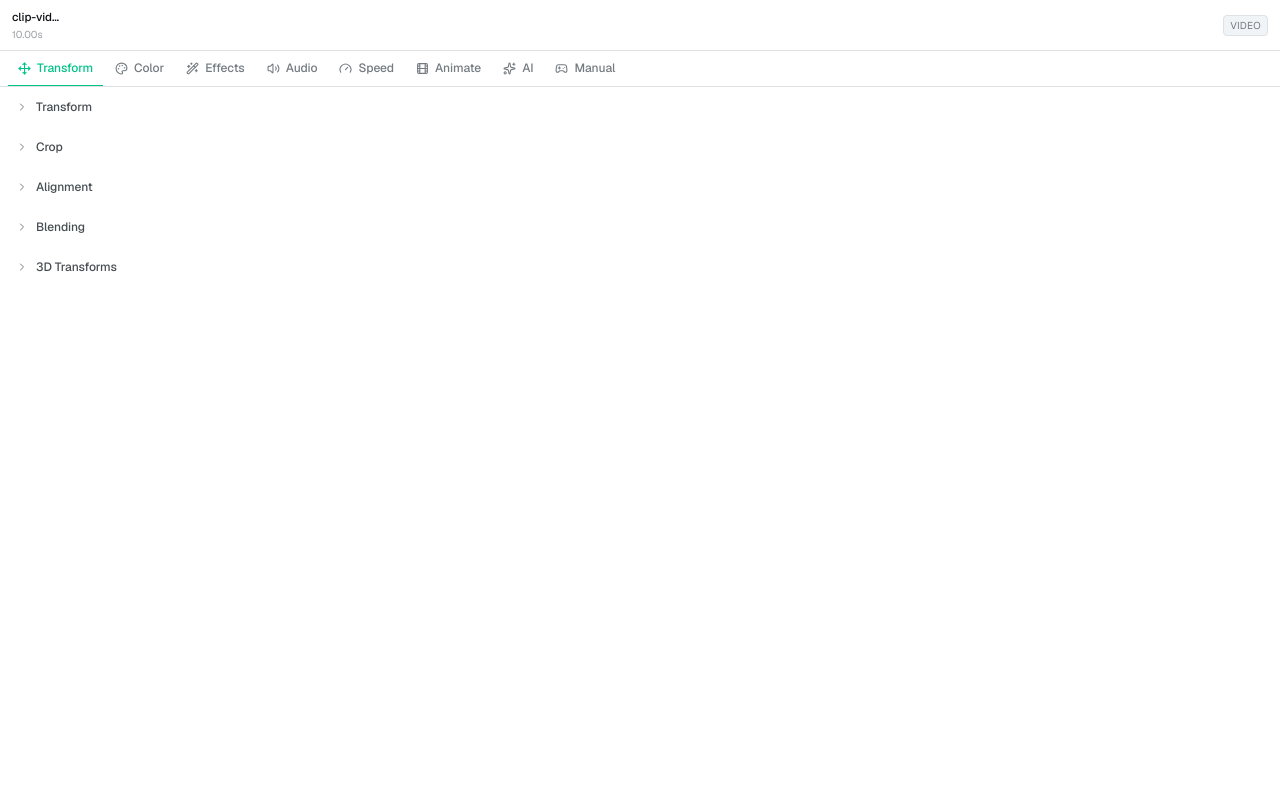
Scenario: InspectorPanel real tabs › switching tabs swaps the visible panel (real isolation)
This screenshot has width=1280, height=800.
Click the button "Transform": {"x": 64, "y": 107} x1=16 y1=99 x2=1264 y2=115
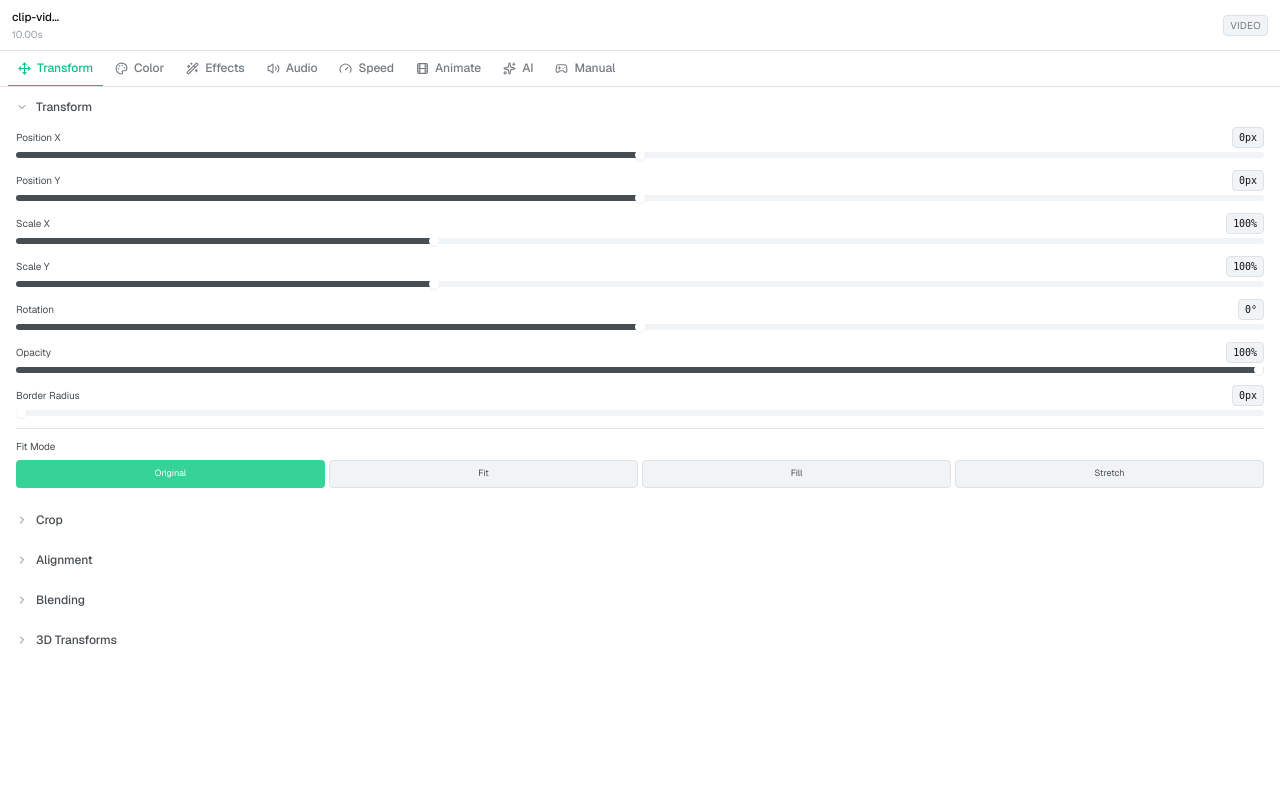
Expected: the text "Position X" is shown, x1=16 y1=131 x2=60 y2=144
Click the tab "Audio": {"x": 292, "y": 69} x1=257 y1=51 x2=328 y2=87
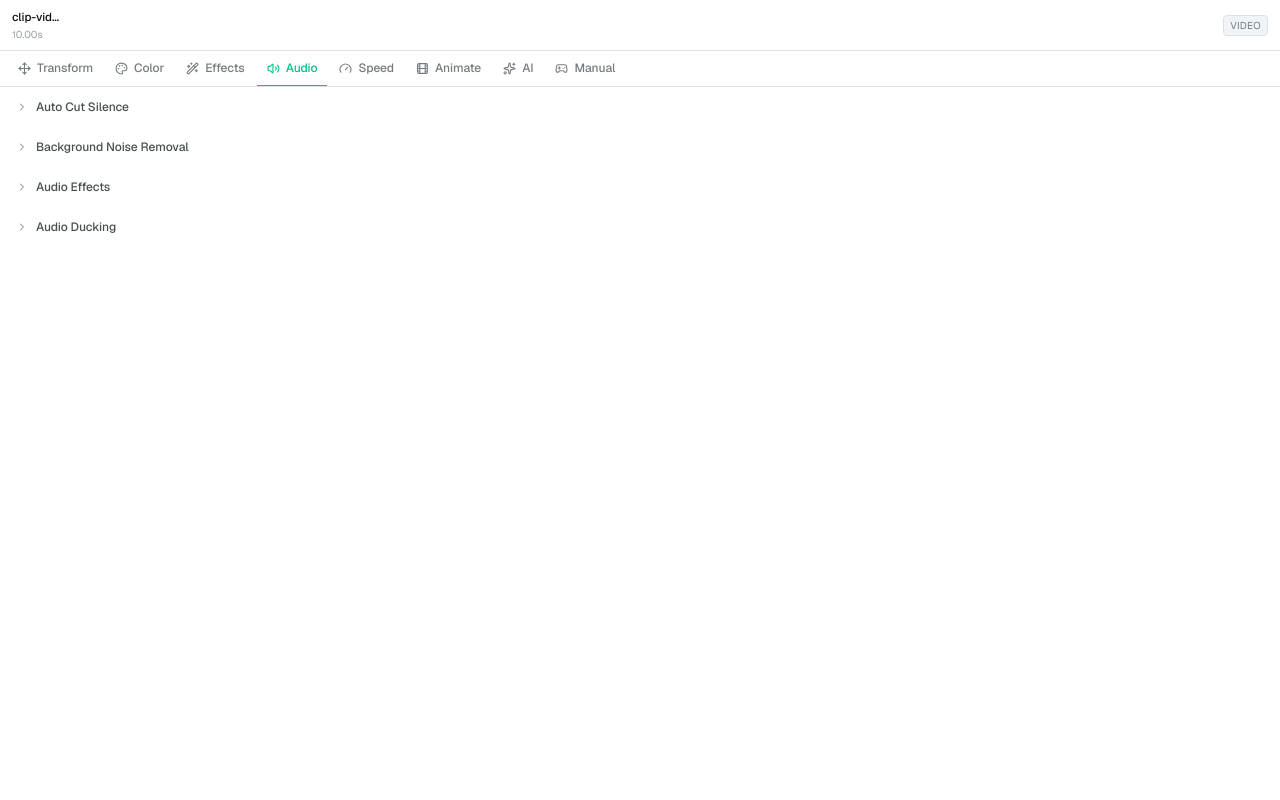
Expected: the text "Position X" is gone
